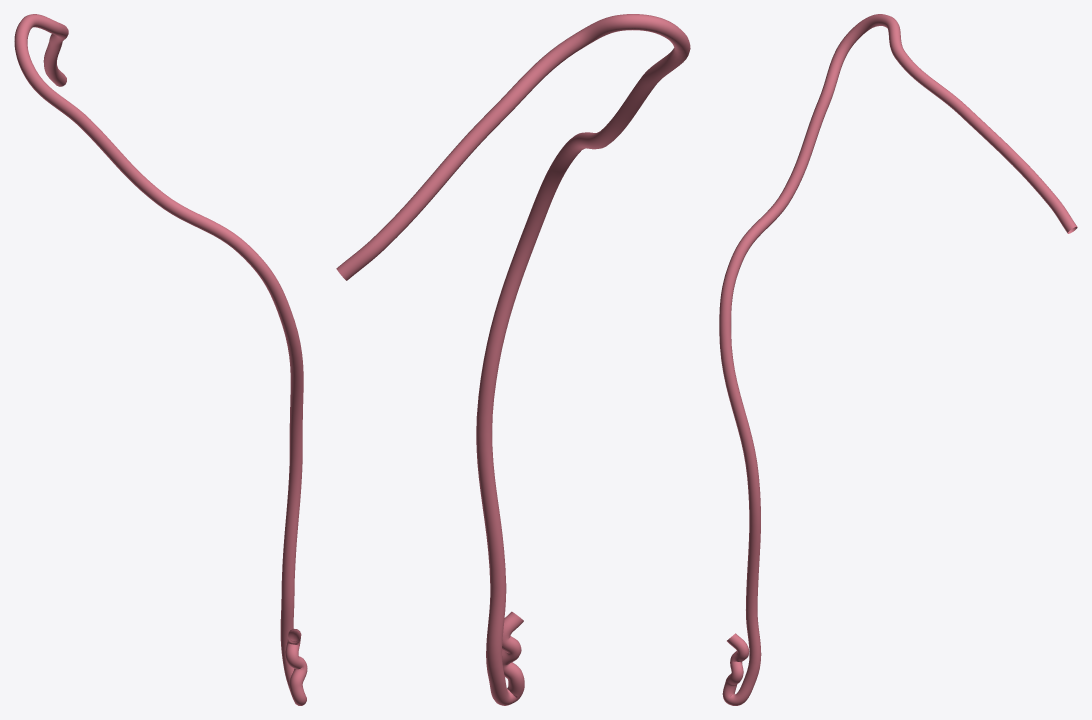
The model's file is Ductus_deferens_right.glb.
3 renders of one model, left to right at view 1: azimuth 30°, elevation 25°; view 2: azimuth 150°, elevation 25°; view 3: azimuth 270°, elevation 25°, orthographic. The views are drawn at different scales.
Visible parts, largest first — view 1: Ductus_deferens.r_BezierCurve.287; view 2: Ductus_deferens.r_BezierCurve.287; view 3: Ductus_deferens.r_BezierCurve.287.
Part boxes in pixels (bbox=[...]): Ductus_deferens.r_BezierCurve.287: bbox=[14, 14, 307, 705]; Ductus_deferens.r_BezierCurve.287: bbox=[336, 14, 690, 705]; Ductus_deferens.r_BezierCurve.287: bbox=[719, 14, 1077, 705].
Bounding box in the file's own units: 0.0587 × 0.1666 × 0.0893.
